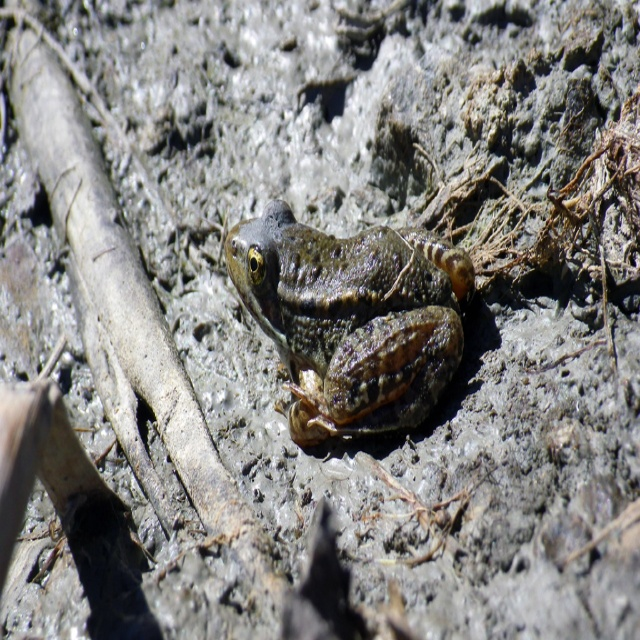Frog: (224, 196, 476, 443)
